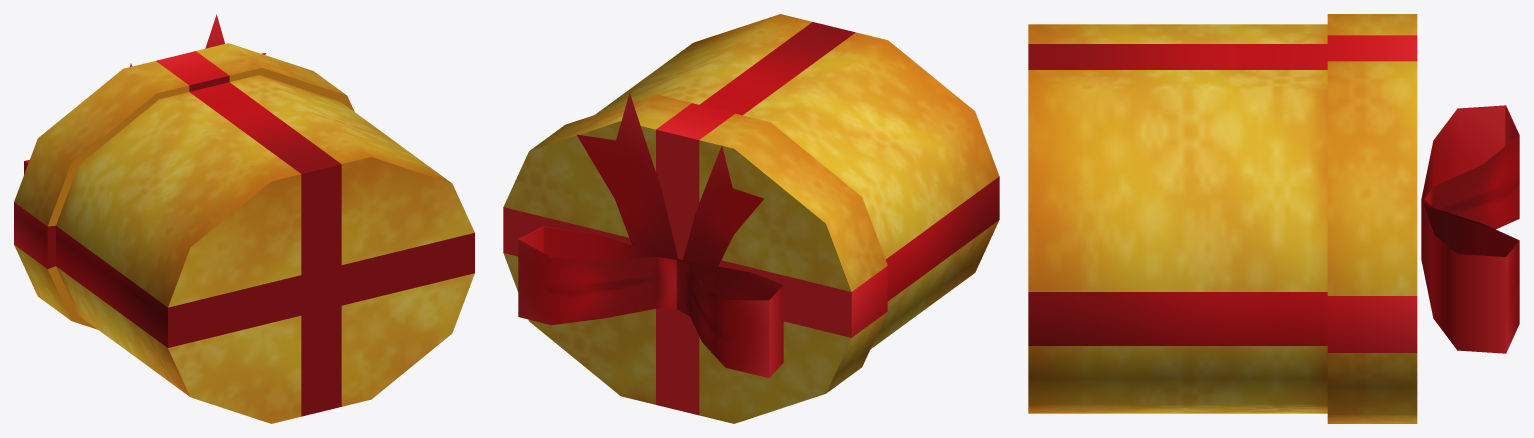
The model's file is Present_E.fbx.
The picture shows the model from 3 angles, left to right: view 1: azimuth 30°, elevation 25°; view 2: azimuth 150°, elevation 25°; view 3: azimuth 270°, elevation 25°; orthographic projection. The views are drawn at different scales.
Visible parts, largest first — view 1: Present_E; view 2: Present_E; view 3: Present_E.
Part boxes in pixels (box(x1,y1,x2,y2)): Present_E: box(14, 14, 474, 423); Present_E: box(503, 14, 999, 423); Present_E: box(1028, 14, 1519, 423).
Size of the model in its own units: 20.86 by 17.62 by 20.55.
